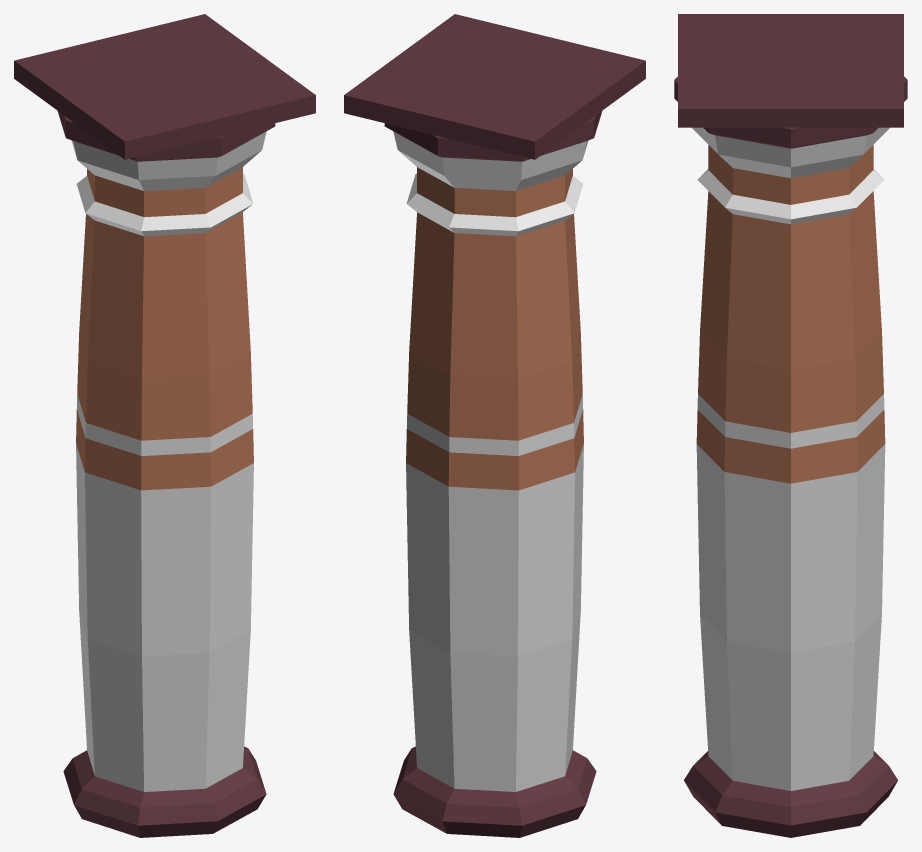
The model's file is SM_Pillar_Tuscan_Small_Color_Empire.fbx.
3 renders of one model, left to right at view 1: azimuth 30°, elevation 25°; view 2: azimuth 150°, elevation 25°; view 3: azimuth 270°, elevation 25°, orthographic.
Parts seen in each view (by area): view 1: SM_Pillar_Tuscan_Small_Color_Empire; view 2: SM_Pillar_Tuscan_Small_Color_Empire; view 3: SM_Pillar_Tuscan_Small_Color_Empire.
Part boxes in pixels (box(x1,y1,x2,y2)): SM_Pillar_Tuscan_Small_Color_Empire: box(14, 14, 315, 837); SM_Pillar_Tuscan_Small_Color_Empire: box(344, 14, 645, 837); SM_Pillar_Tuscan_Small_Color_Empire: box(674, 14, 907, 837).
Size of the model in its own units: 0.8633 by 3 by 0.8633.
